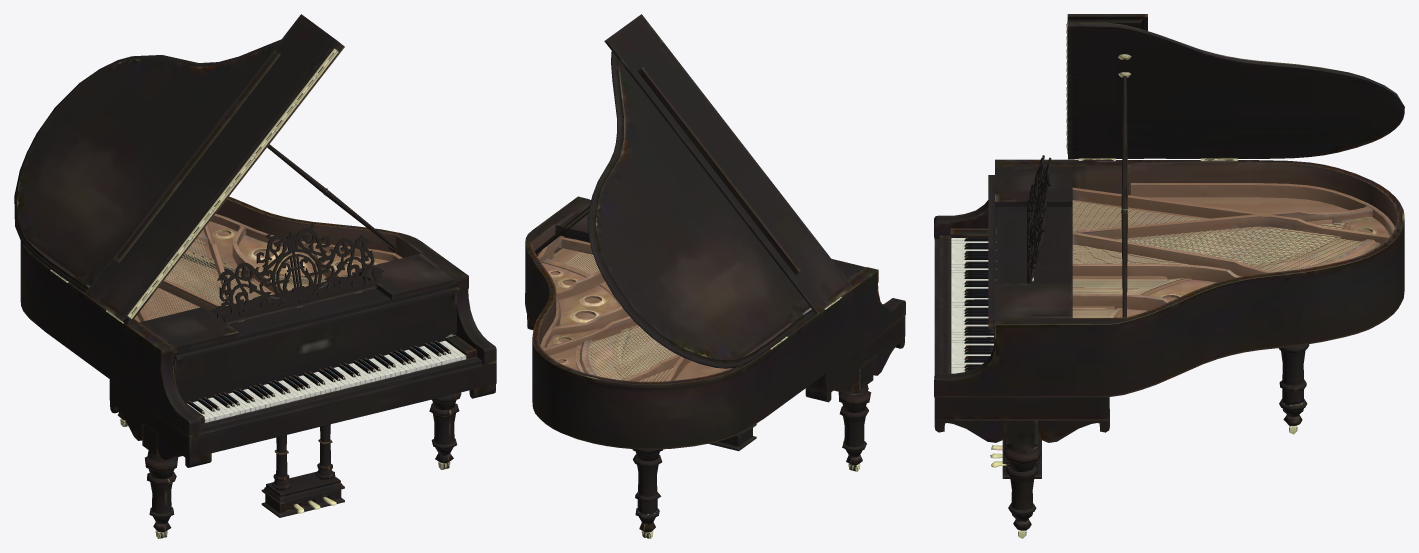
Rendered from SM_GrandPiano01_d15aa5.glb.
3 renders of one model, left to right at view 1: azimuth 30°, elevation 25°; view 2: azimuth 150°, elevation 25°; view 3: azimuth 270°, elevation 25°, orthographic. The views are drawn at different scales.
Size of the model in its own units: 1.84 by 2.4 by 2.15.
Materials: 1 (1 with a texture image).
